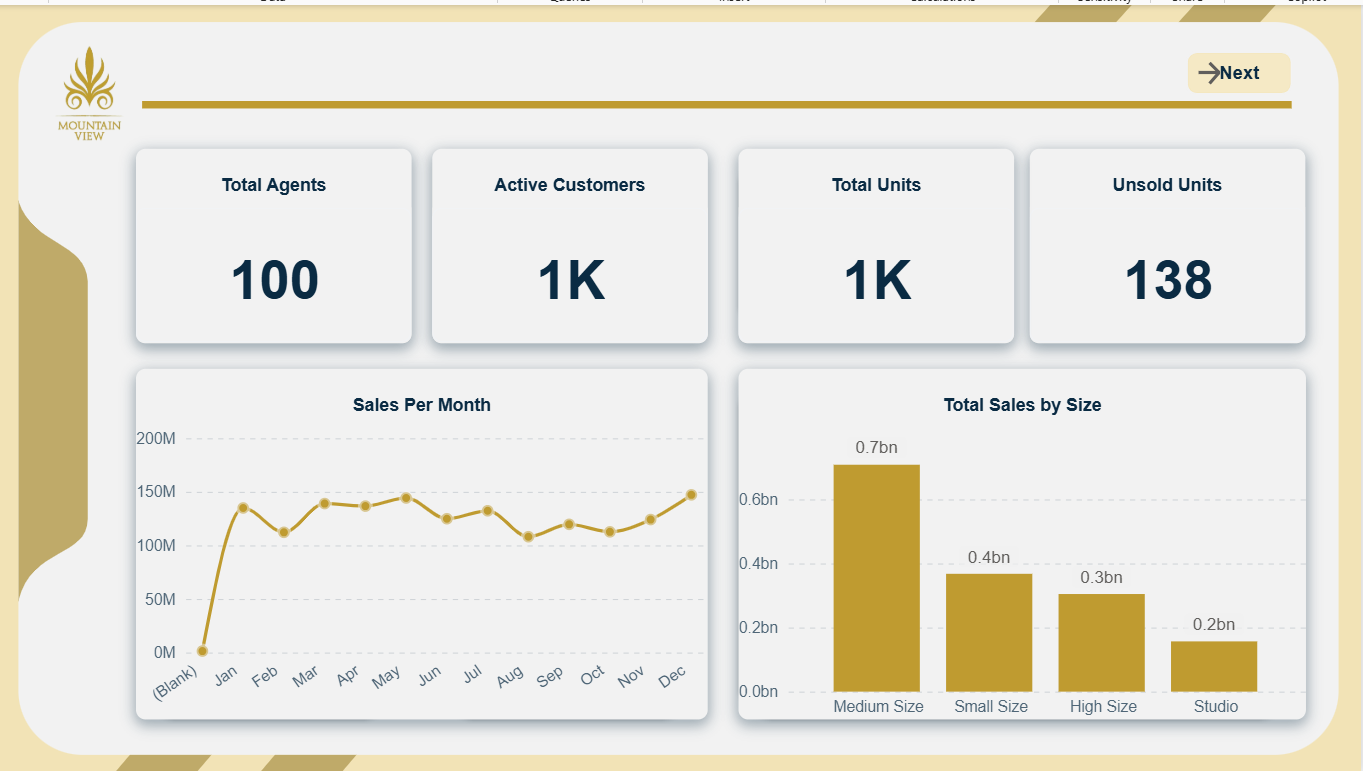

This screenshot's page, from the dashboard's own definition file:
{"tool":"powerbi","page":{"name":"Page 3","canvas":[1280,720],"ordinal":3},"visuals":[{"type":"cardVisual","title":"Active Customers","fields":{"Data":["Key Measure.No Of Paying Customers"]},"box":[408.8,135,258.1,182.1],"z":0},{"type":"cardVisual","title":"Unsold Units","fields":{"Data":["Key Measure.Unsold Properites"]},"box":[969.7,135,258.1,182.1],"z":1000},{"type":"cardVisual","title":"Total Units","fields":{"Data":["Key Measure.No Of Properties"]},"box":[695.8,135,258.1,182.1],"z":2000},{"type":"cardVisual","title":"Total Agents","fields":{"Data":["Key Measure.No Of Agents"]},"box":[131,135,258.1,182.1],"z":3000},{"type":"image","box":[0,11.8,173,142.8],"z":4000},{"type":"actionButton","box":[1115.2,43.2,99.6,40.6],"z":5000},{"type":"lineChart","title":"Sales Per Month","fields":{"Category":["Calender.Month Name"],"Y":["Key Measure.Total Sales"]},"box":[131,340.7,536,328.9],"z":6000},{"type":"lineClusteredColumnComboChart","title":"Total Sales by Size","fields":{"Category":["Properties.Size of Units"],"Y":["Key Measure.Total Sales"]},"box":[695.8,340.7,532,328.9],"z":7000}]}

Visuals, with their boxes on the page's 1280x720 design canvas (x1, y1, x2, y2). These are canvas units, not pixel positions in the 1363x771 screenshot, which may show the page scaled, cropped or inside an application window:
"Active Customers" cardVisual: 409:135:667:317
"Unsold Units" cardVisual: 970:135:1228:317
"Total Units" cardVisual: 696:135:954:317
"Total Agents" cardVisual: 131:135:389:317
image: 0:12:173:155
actionButton: 1115:43:1215:84
"Sales Per Month" lineChart: 131:341:667:670
"Total Sales by Size" lineClusteredColumnComboChart: 696:341:1228:670
